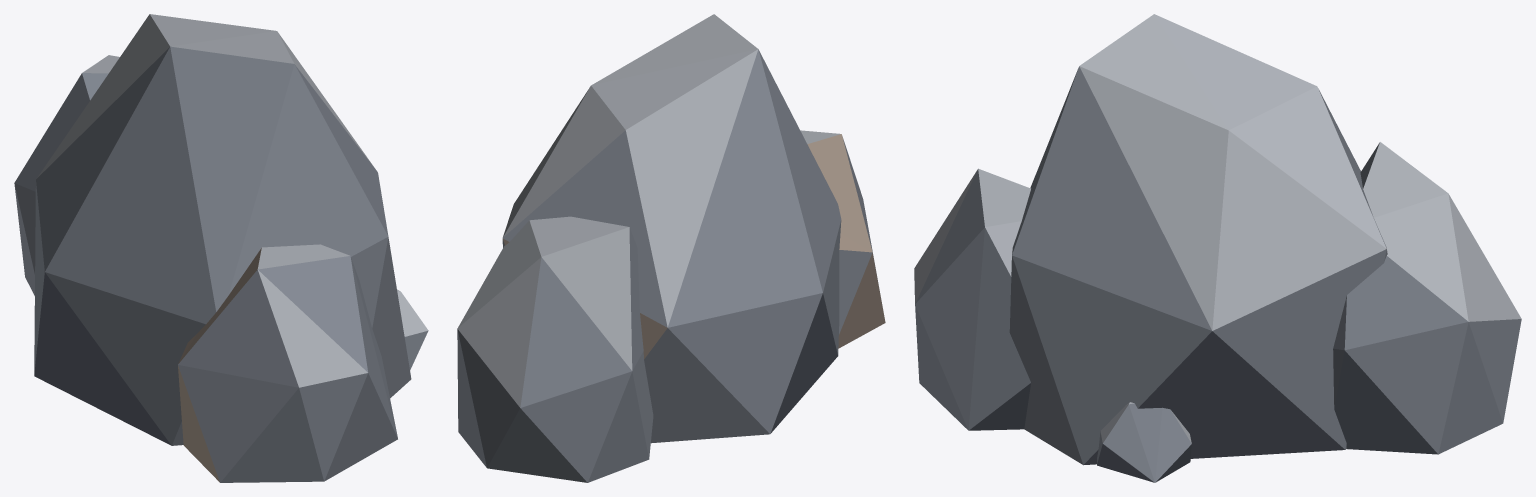
The model's file is boulder_xl.glb.
3 views of the same model, side by side, from view 1: azimuth 30°, elevation 25°; view 2: azimuth 150°, elevation 25°; view 3: azimuth 270°, elevation 25° (orthographic). The views are drawn at different scales.
Visible parts, largest first — view 1: Body; view 2: Body; view 3: Body.
Boxes of the visible parts, x1,y1,x2,y2 form: Body: (14, 14, 428, 482); Body: (457, 14, 885, 482); Body: (914, 14, 1521, 482).
Bounding box in the file's own units: 6.19 × 6.12 × 9.57.
